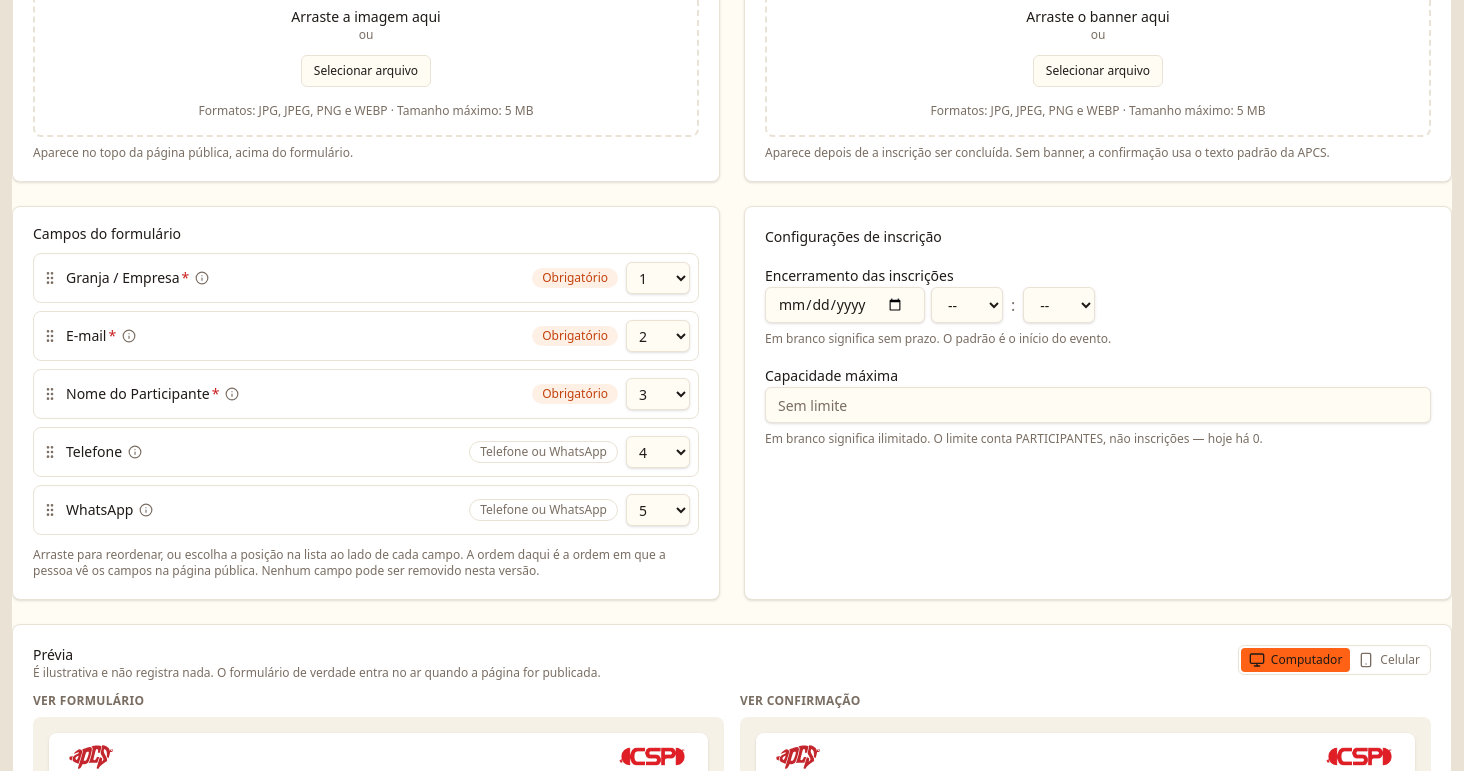
Test: salvar (§22, §28) › mexer em qualquer campo habilita o salvar e avisa
The width and height of the screenshot is (1464, 771).
(page scrolled)
Type "120" into the field labelled "Capacidade máxima" at (1098, 405), box [765,387,1431,423]
(page scrolled)
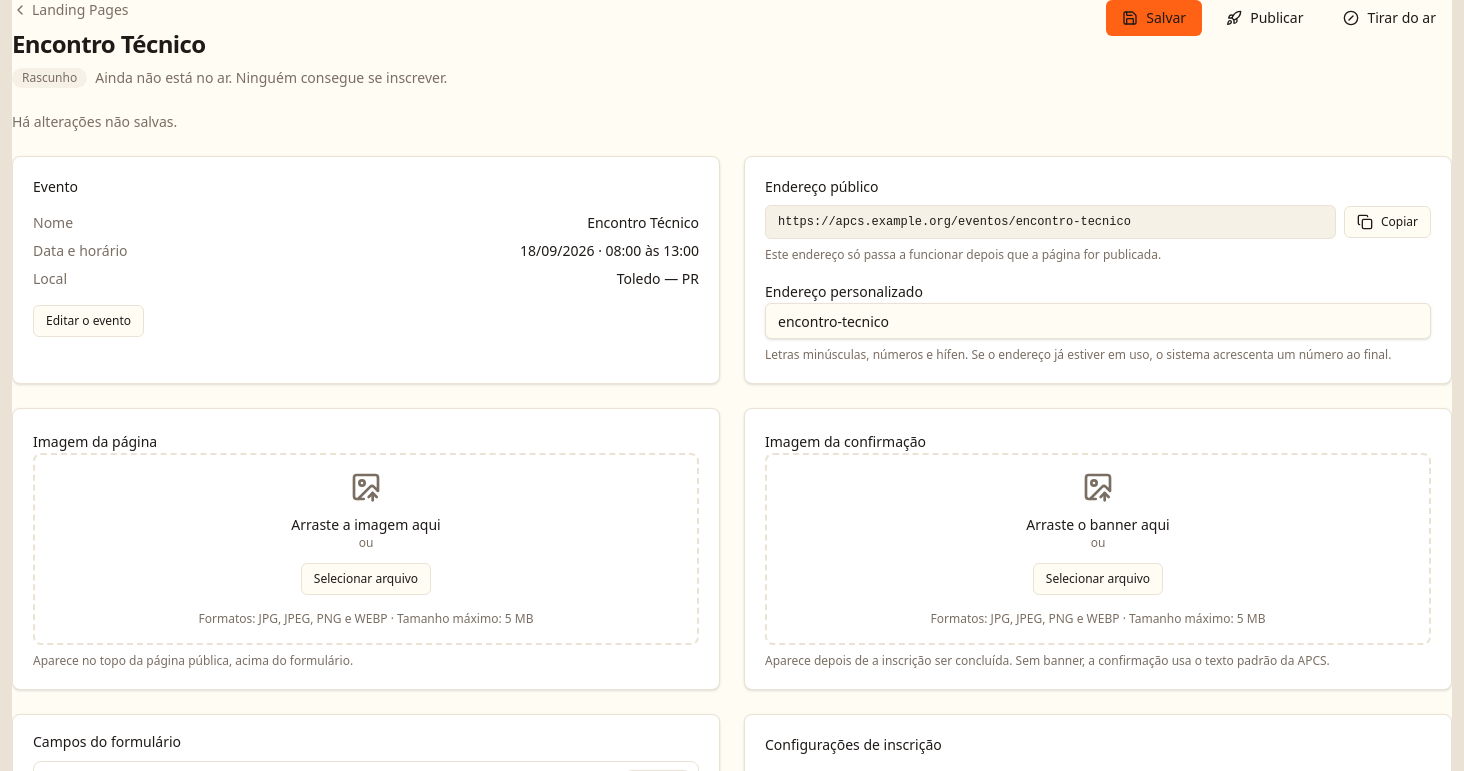
Now the button "Salvar" is enabled, box [1106,0,1202,36]
Now the text "Há alterações não salvas." is shown, box [12,112,177,131]
